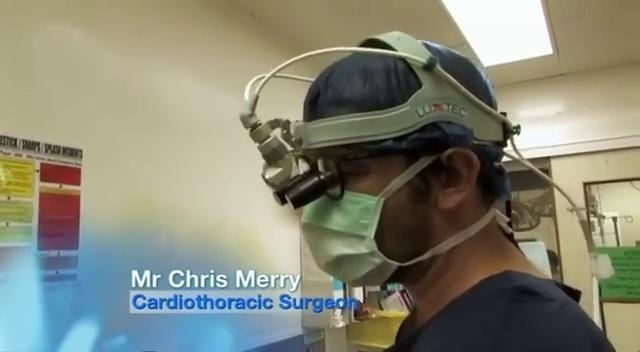doctor: (245, 30, 619, 351)
